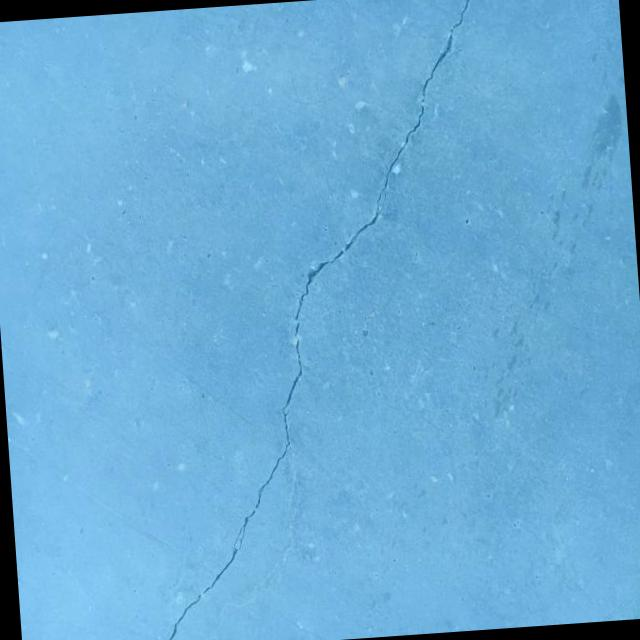crack: (116, 0, 528, 640)
